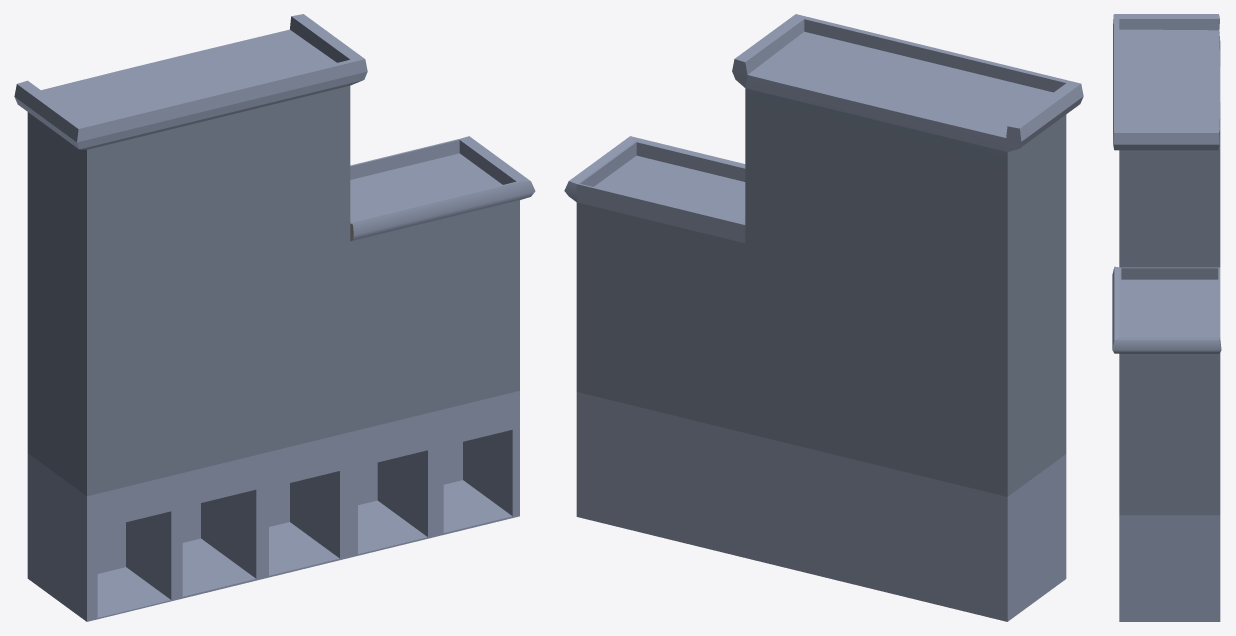
Rendered from building_L_4floors.fbx.
3 views of the same model, side by side, from view 1: azimuth 30°, elevation 25°; view 2: azimuth 150°, elevation 25°; view 3: azimuth 270°, elevation 25° (orthographic). The views are drawn at different scales.
Parts seen in each view (by area): view 1: building_L_4floors; view 2: building_L_4floors; view 3: building_L_4floors.
Boxes of the visible parts, x1=… form: building_L_4floors: x1=14, y1=14, x2=535, y2=621; building_L_4floors: x1=564, y1=14, x2=1083, y2=621; building_L_4floors: x1=1112, y1=14, x2=1221, y2=621.
Size of the model in its own units: 14.01 by 14.56 by 3.4.
